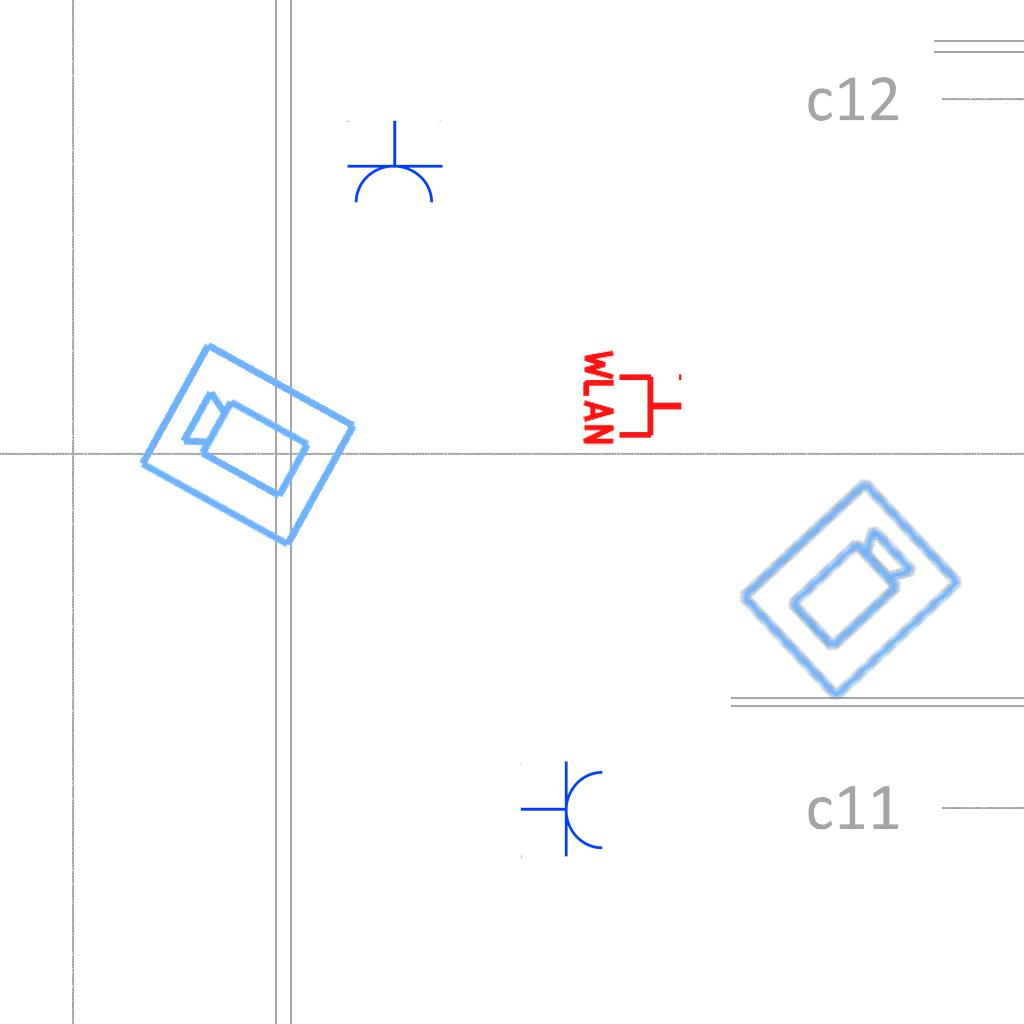KFO_Kamera_mit_Festobjektiv: (731, 472, 971, 710), (132, 332, 366, 556)
Schukosteckdose_einfach: (344, 120, 444, 207), (520, 760, 607, 860)
WLAN: (581, 345, 686, 449)
